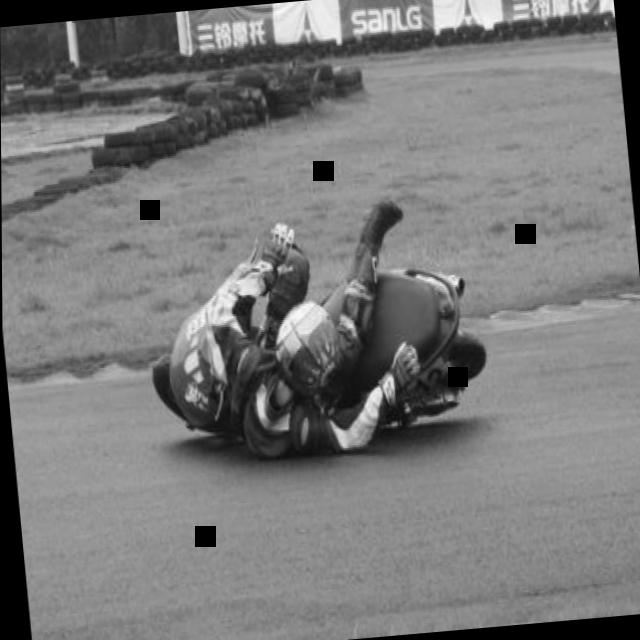Fall-Detected: (135, 166, 469, 484)
